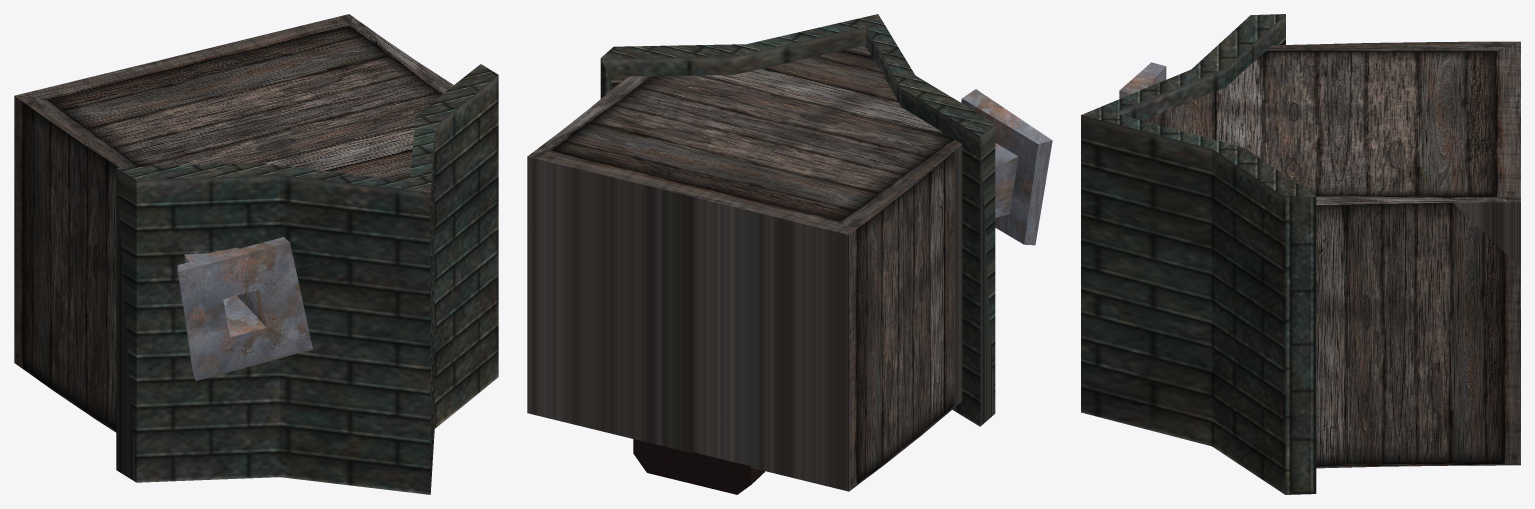
Rendered from HauntHouse1062_wtf.obj.
The picture shows the model from 3 angles, left to right: view 1: azimuth 30°, elevation 25°; view 2: azimuth 150°, elevation 25°; view 3: azimuth 270°, elevation 25°; orthographic projection. The views are drawn at different scales.
Visible parts, largest first — view 1: group10, group11, group3; view 2: group11, group10, group3, group9; view 3: group11, group10, group3.
Part boxes in pixels (bbox=[...]): group10: bbox=[116, 64, 498, 494]; group11: bbox=[14, 14, 453, 432]; group3: bbox=[177, 237, 312, 380]; group11: bbox=[527, 45, 962, 491]; group10: bbox=[600, 14, 995, 426]; group3: bbox=[961, 89, 1052, 245]; group9: bbox=[633, 439, 764, 494]; group11: bbox=[1143, 41, 1520, 468]; group10: bbox=[1081, 14, 1316, 494]; group3: bbox=[1119, 62, 1166, 98].
Size of the model in its own units: 660 by 516 by 656.
